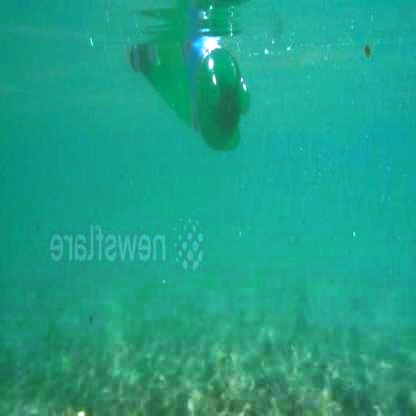pbottle: (130, 22, 252, 154)
